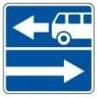road_sign: (0, 0, 95, 95)
